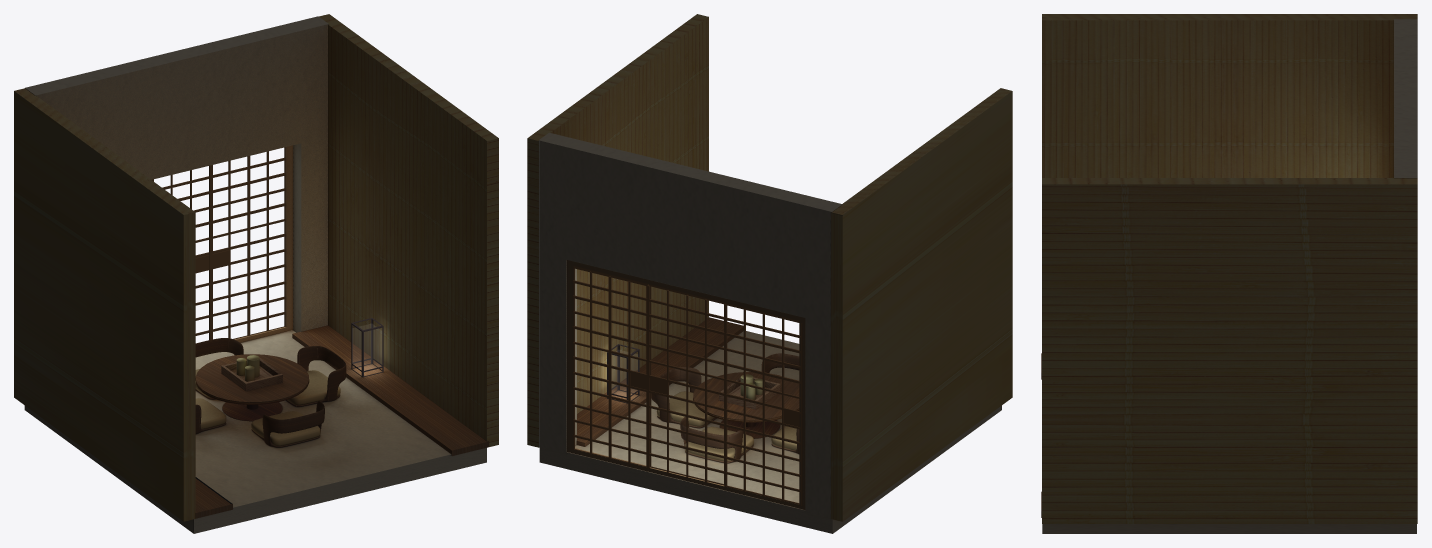
The model's file is room_modified.glb.
3 renders of one model, left to right at view 1: azimuth 30°, elevation 25°; view 2: azimuth 150°, elevation 25°; view 3: azimuth 270°, elevation 25°, orthographic. The views are drawn at different scales.
Parts seen in each view (by area): view 1: Object_2, Object_4, Object_11, Object_10, Object_18, Object_14, Object_12, Object_17, Object_3, Object_8, Object_9, Object_5 (+2 smaller); view 2: Object_2, Object_11, Object_4, Object_14, Object_10, Object_3, Object_18, Object_12, Object_17, Object_7, Object_8, Object_5 (+1 smaller); view 3: Object_4, Object_2, Object_11, Object_10.
Part boxes in pixels (<box>): Object_2: <box>14,88,195,521</box>; Object_4: <box>319,14,498,446</box>; Object_11: <box>25,16,328,332</box>; Object_10: <box>24,330,486,533</box>; Object_18: <box>195,325,488,518</box>; Object_14: <box>152,147,285,339</box>; Object_12: <box>195,354,309,421</box>; Object_17: <box>195,369,340,446</box>; Object_3: <box>234,145,292,342</box>; Object_8: <box>286,346,346,406</box>; Object_9: <box>251,401,324,447</box>; Object_5: <box>221,358,282,391</box>; Object_2: <box>831,88,1012,521</box>; Object_11: <box>538,132,842,518</box>; Object_4: <box>527,14,708,447</box>; Object_14: <box>572,266,802,505</box>; Object_10: <box>539,331,1001,533</box>; Object_3: <box>567,260,805,509</box>; Object_18: <box>576,317,743,446</box>; Object_12: <box>693,372,799,438</box>; Object_17: <box>656,391,796,461</box>; Object_7: <box>680,417,753,463</box>; Object_8: <box>651,367,716,428</box>; Object_5: <box>719,377,780,409</box>; Object_4: <box>1042,178,1417,523</box>; Object_2: <box>1042,14,1417,177</box>; Object_11: <box>1394,19,1417,178</box>; Object_10: <box>1042,524,1416,533</box>.
Size of the model in its own units: 28.17 by 27.5 by 26.32.
Materials: 16 (15 with a texture image).
